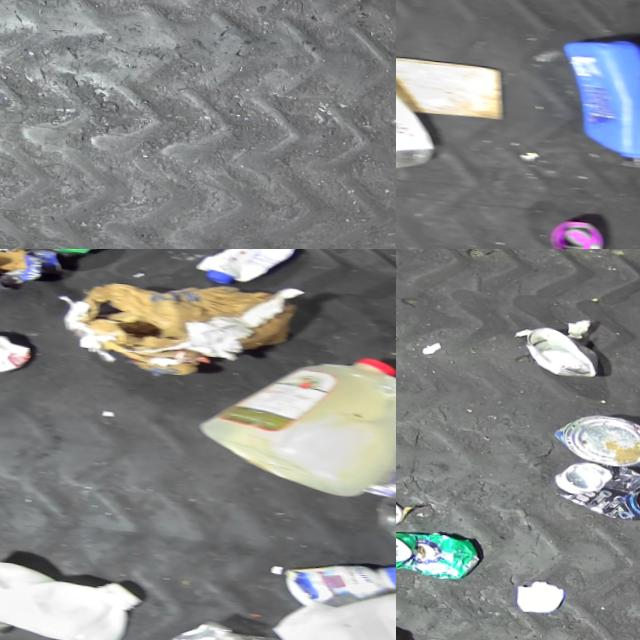can: (546, 453, 640, 523), (547, 406, 640, 466), (396, 524, 478, 581), (519, 322, 602, 377), (356, 440, 396, 498)
milk_jug: (187, 336, 396, 501), (0, 552, 140, 640), (256, 573, 396, 640)
non_white_jug: (547, 20, 640, 169)
